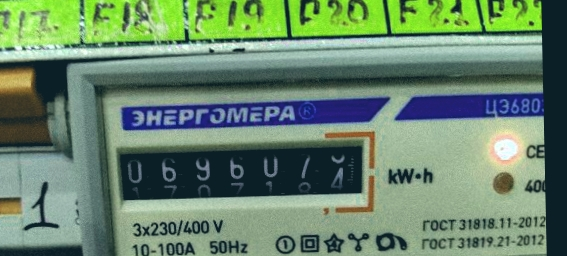0: (261, 149, 279, 179), (126, 155, 143, 184)
4: (328, 162, 345, 192)
6: (228, 150, 245, 180), (160, 154, 177, 182)
7: (295, 149, 314, 180)
9: (193, 153, 211, 181)
screen: (103, 126, 382, 216)
